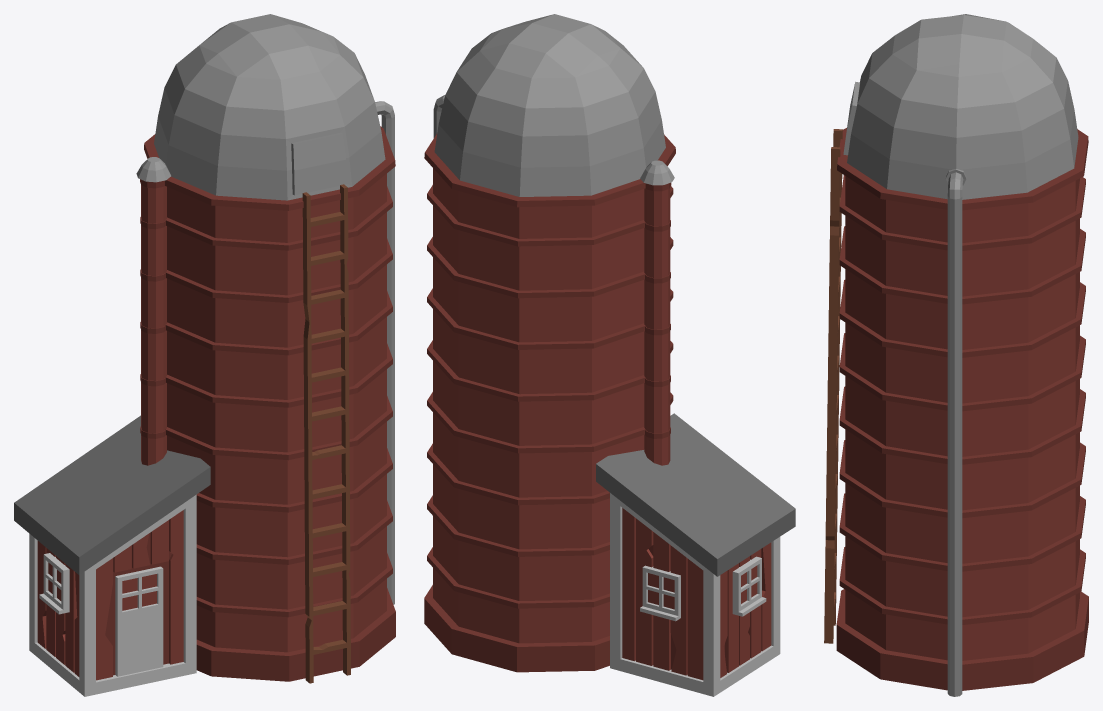
File: silo_House.fbx
3 views of the same model, side by side, from view 1: azimuth 30°, elevation 25°; view 2: azimuth 150°, elevation 25°; view 3: azimuth 270°, elevation 25° (orthographic). The views are drawn at different scales.
Visible parts, largest first — view 1: Silo_House; view 2: Silo_House; view 3: Silo_House.
Boxes of the visible parts, x1,y1,x2,y2 form: Silo_House: (14,14,395,696); Silo_House: (424,14,795,696); Silo_House: (824,14,1088,696).
Bounding box in the file's own units: 979 × 1648 × 646.
